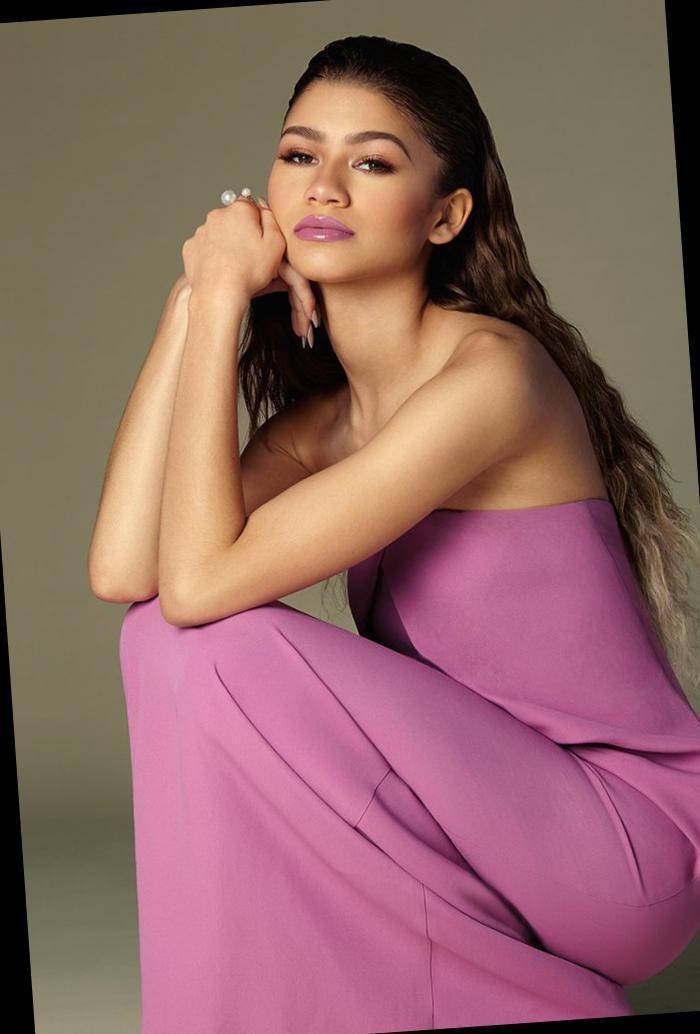Sober: (266, 78, 457, 283)
